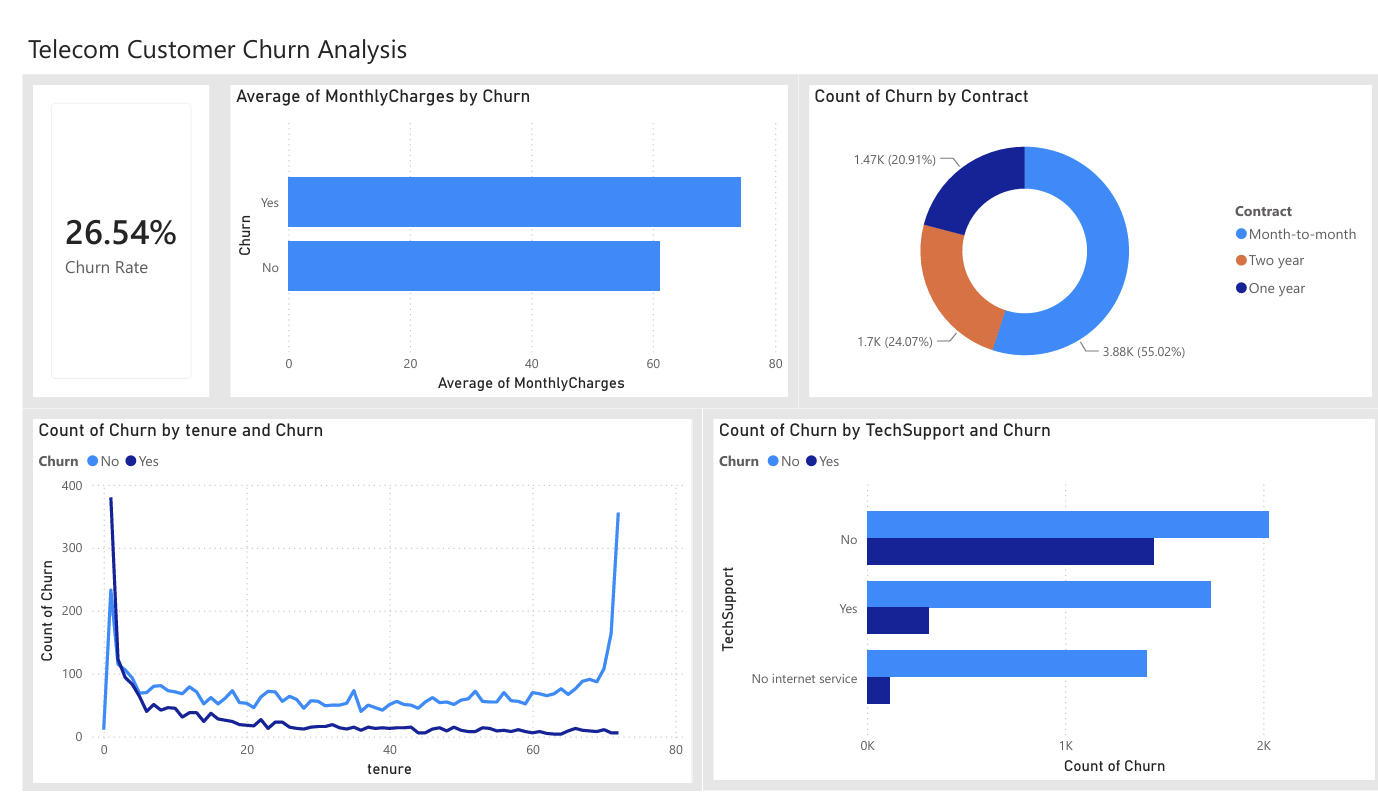

This screenshot's page, from the dashboard's own definition file:
{"tool":"powerbi","page":{"name":"Page 1","canvas":[1280,720],"ordinal":0},"visuals":[{"type":"clusteredBarChart","fields":{"Category":["telco_churn_cleaned.Churn"],"Y":["Avg(telco_churn_cleaned.MonthlyCharges)"]},"box":[185.7,45.7,544.3,314.3],"z":0},{"type":"lineChart","fields":{"Category":["telco_churn_cleaned.tenure"],"Y":["CountNonNull(telco_churn_cleaned.Churn)"],"Series":["telco_churn_cleaned.Churn"]},"box":[0,360,640,363.3],"z":1000},{"type":"clusteredBarChart","fields":{"Category":["telco_churn_cleaned.TechSupport"],"Y":["CountNonNull(telco_churn_cleaned.Churn)"],"Series":["telco_churn_cleaned.Churn"]},"box":[640,360,642.9,360],"z":3000},{"type":"textbox","box":[0,0,414.3,45.7],"z":4000},{"type":"cardVisual","fields":{"Data":["telco_churn_cleaned.Churn Rate"]},"box":[0,46,186,314],"z":4001},{"type":"donutChart","fields":{"Category":["telco_churn_cleaned.Contract"],"Y":["CountNonNull(telco_churn_cleaned.Churn)"]},"box":[730,45.7,550,314.3],"z":4002}]}

Visuals, with their boxes on the page's 1280x720 design canvas (x1, y1, x2, y2). These are canvas units, not pixel positions in the 1378x812 screenshot, which may show the page scaled, cropped or inside an application window:
clusteredBarChart - telco_churn_cleaned.Churn x Avg(telco_churn_cleaned.MonthlyCharges): Rect(186, 46, 730, 360)
lineChart - telco_churn_cleaned.tenure x CountNonNull(telco_churn_cleaned.Churn): Rect(0, 360, 640, 723)
clusteredBarChart - telco_churn_cleaned.TechSupport x CountNonNull(telco_churn_cleaned.Churn): Rect(640, 360, 1283, 720)
textbox: Rect(0, 0, 414, 46)
cardVisual - telco_churn_cleaned.Churn Rate: Rect(0, 46, 186, 360)
donutChart - telco_churn_cleaned.Contract x CountNonNull(telco_churn_cleaned.Churn): Rect(730, 46, 1280, 360)
